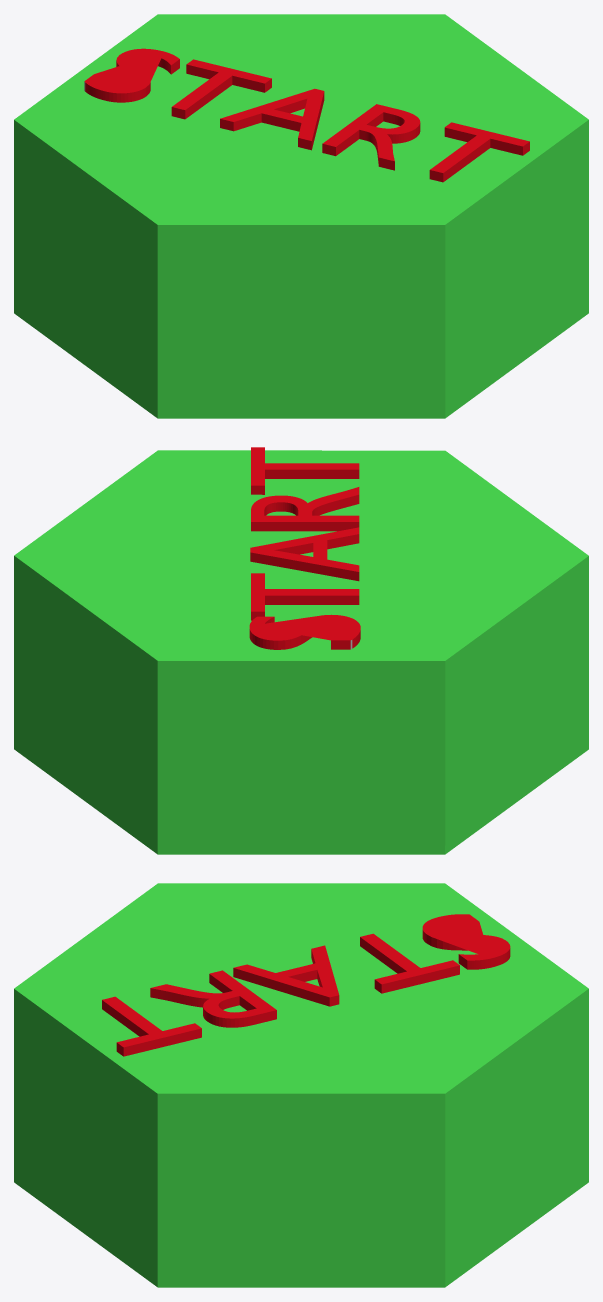
File: NormalTile_Start.fbx
3 renders of one model, top to bottom at view 1: azimuth 30°, elevation 25°; view 2: azimuth 150°, elevation 25°; view 3: azimuth 270°, elevation 25°, orthographic.
Visible parts, largest first — view 1: NormalTile_Start; view 2: NormalTile_Start; view 3: NormalTile_Start.
Boxes of the visible parts, x1,y1,x2,y2 form: NormalTile_Start: (14, 14, 588, 418); NormalTile_Start: (14, 447, 588, 854); NormalTile_Start: (14, 883, 588, 1287).
Size of the model in its own units: 173 by 77.93 by 200.
